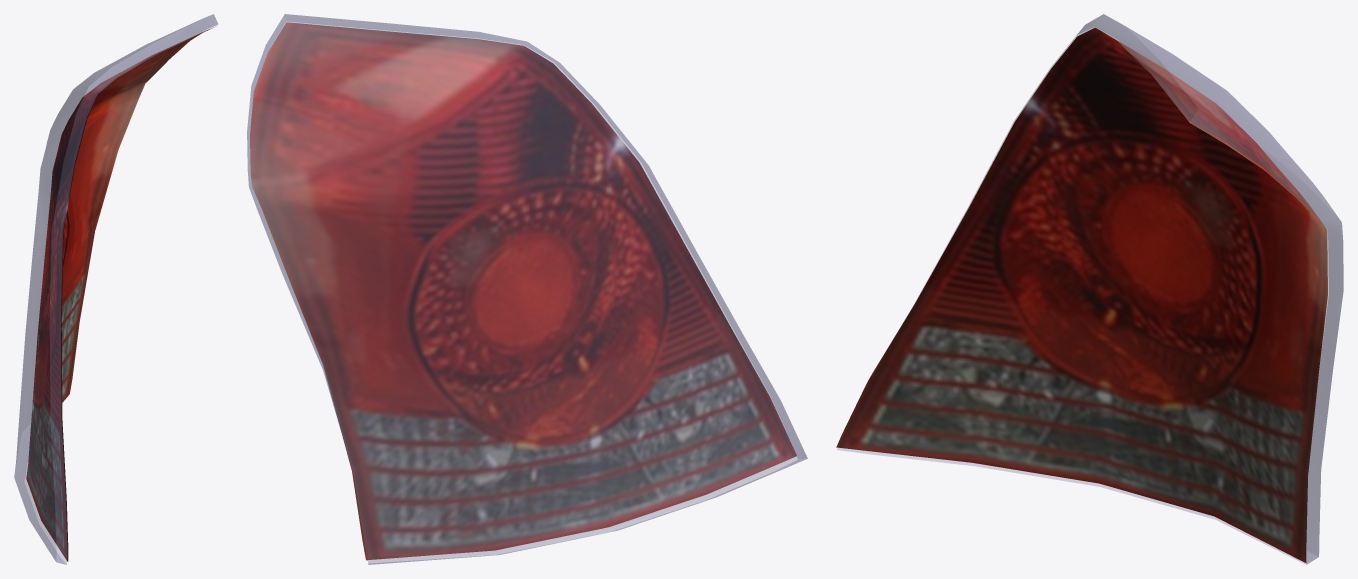
3 views of the same model, side by side, from view 1: azimuth 30°, elevation 25°; view 2: azimuth 150°, elevation 25°; view 3: azimuth 270°, elevation 25° (orthographic). The views are drawn at different scales.
Visible parts, largest first — view 1: E232_541C_L_E232_541C_L_2_N, E232_541C_L_1_DTaSI_E232_541C_L; view 2: E232_541C_L_1_DTaSI_E232_541C_L, E232_541C_L_E232_541C_L_2_N; view 3: E232_541C_L_E232_541C_L_2_N, E232_541C_L_1_DTaSI_E232_541C_L.
Boxes of the visible parts, <box> form: E232_541C_L_E232_541C_L_2_N: <box>26,26,216,561</box>; E232_541C_L_1_DTaSI_E232_541C_L: <box>14,14,217,564</box>; E232_541C_L_1_DTaSI_E232_541C_L: <box>247,14,807,564</box>; E232_541C_L_E232_541C_L_2_N: <box>250,22,796,560</box>; E232_541C_L_E232_541C_L_2_N: <box>836,27,1327,562</box>; E232_541C_L_1_DTaSI_E232_541C_L: <box>837,14,1343,564</box>.
Size of the model in its own units: 29.09 by 36.83 by 32.05.
